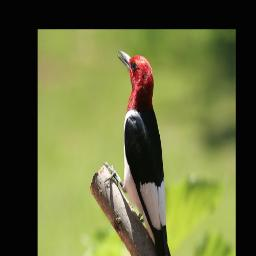Woodpecker: (113, 43, 177, 256)
